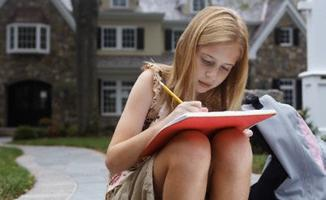person: (106, 6, 254, 200)
